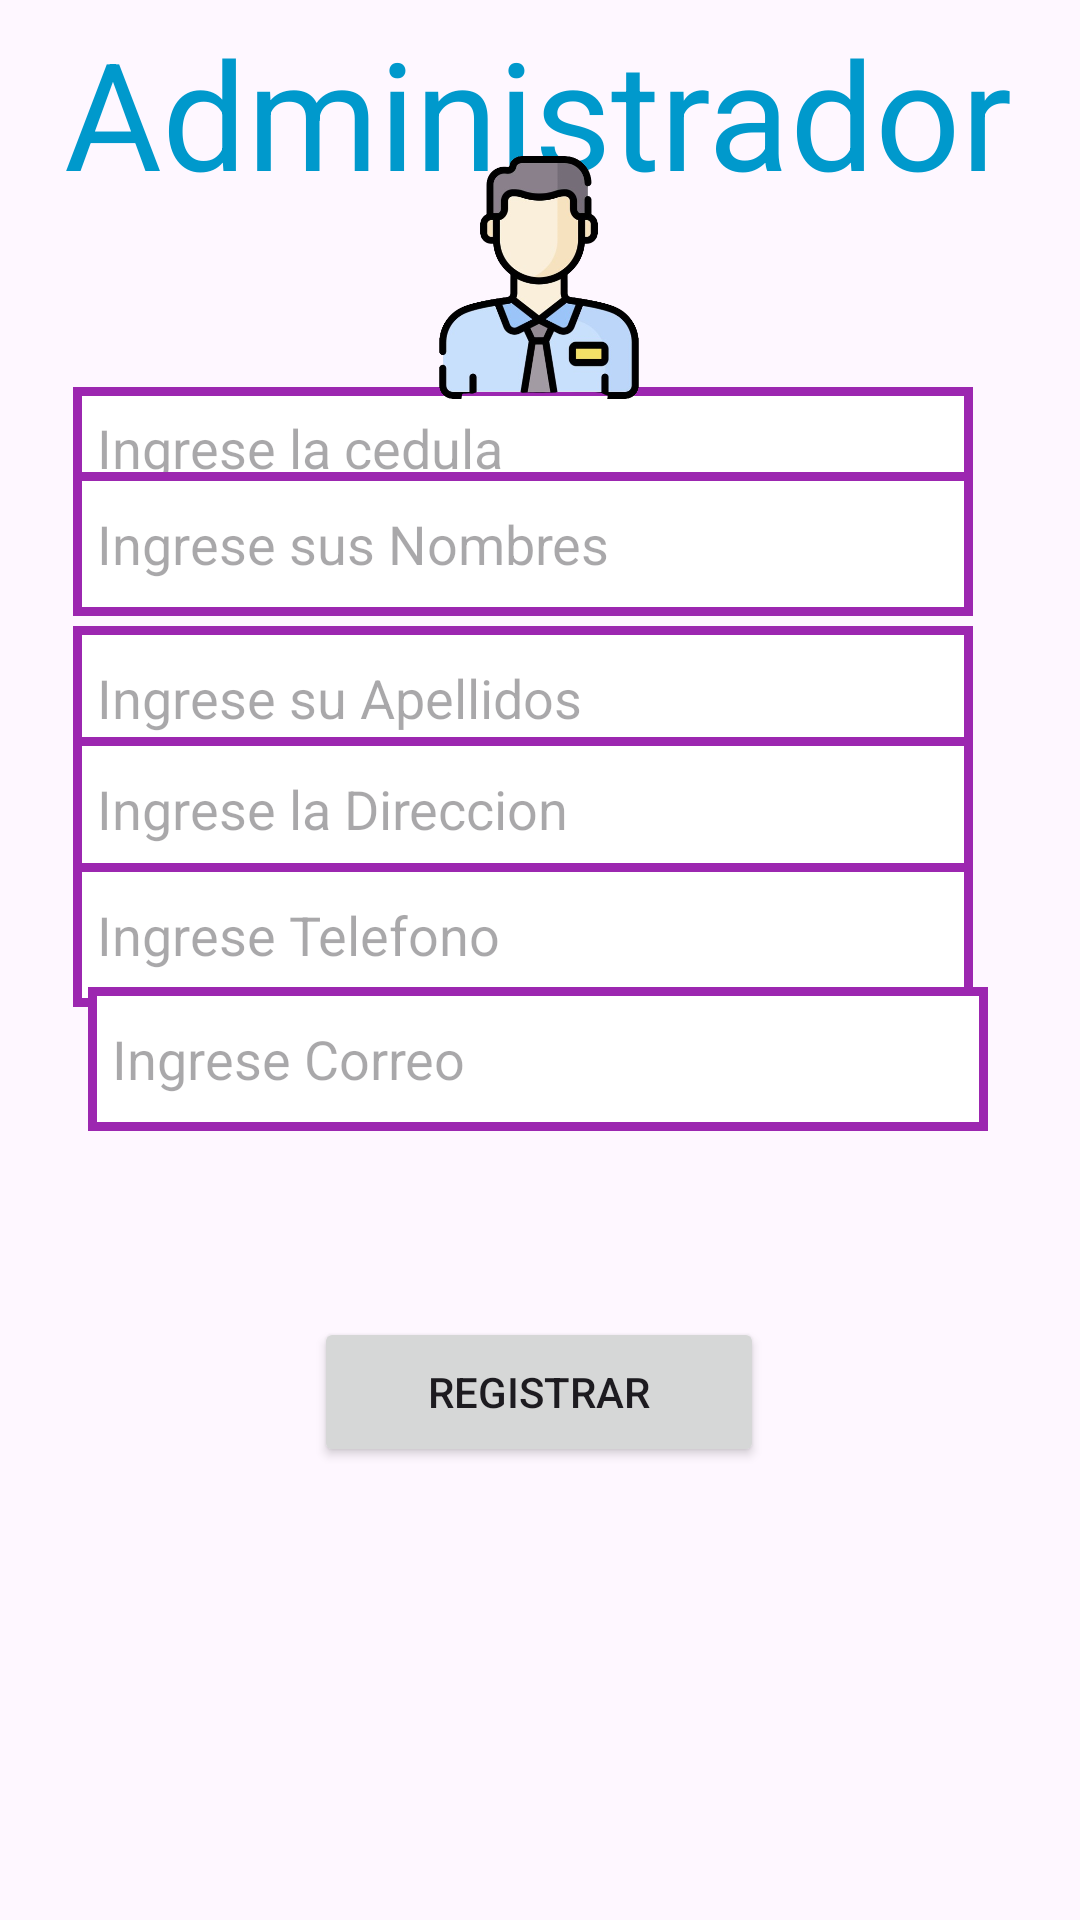

Screen size 1080 × 1920. Icon name, then its center in pixels as (x,y):
empleado: (539,277)
